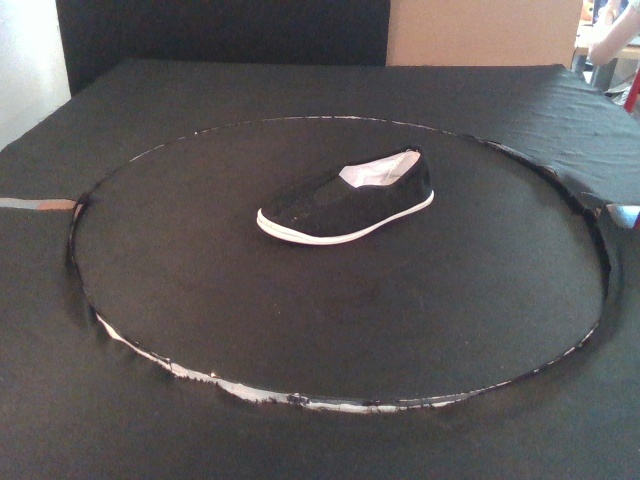shoe: (256, 143, 435, 247)
